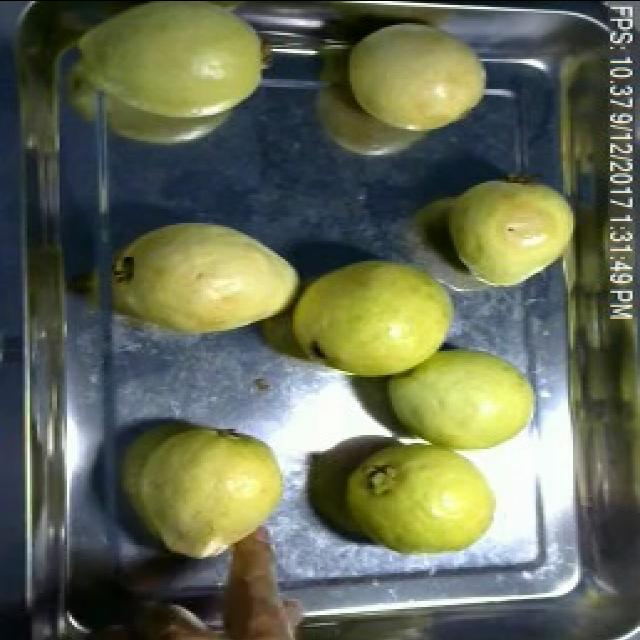Fruit: (290, 418, 514, 580), (105, 410, 302, 578), (59, 0, 280, 144), (106, 212, 308, 348), (283, 252, 469, 388), (374, 338, 550, 464), (338, 10, 498, 142), (442, 166, 580, 298)
